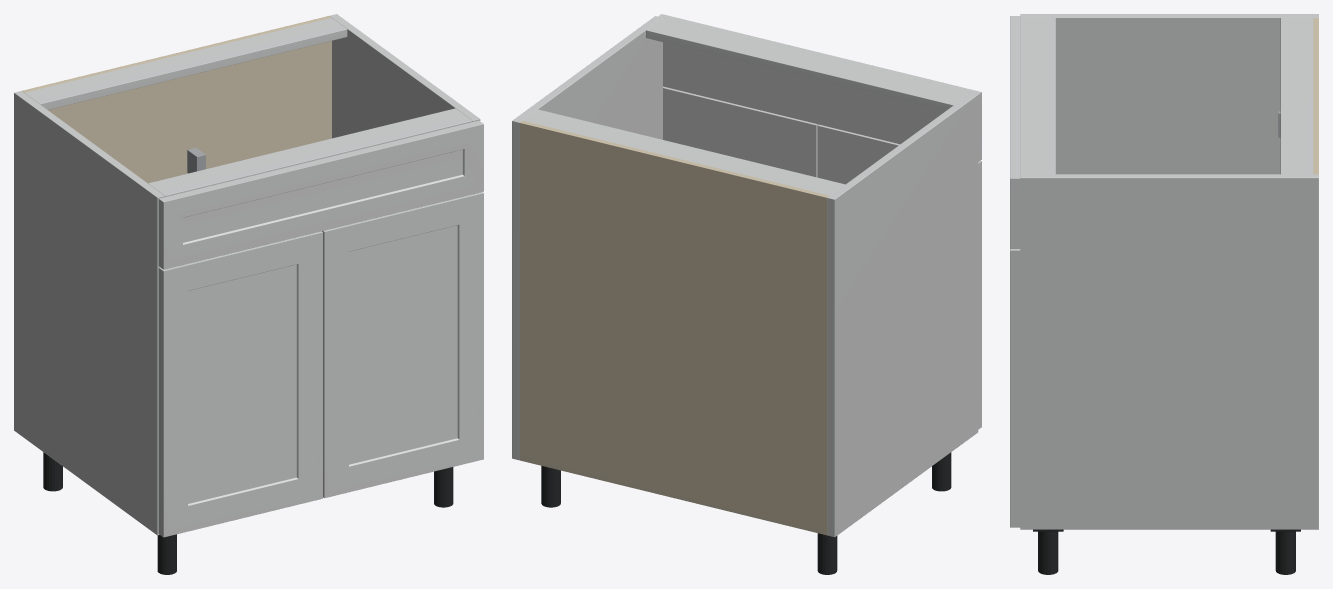
File: PLY-WSS-SB30.glb
The picture shows the model from 3 angles, left to right: view 1: azimuth 30°, elevation 25°; view 2: azimuth 150°, elevation 25°; view 3: azimuth 270°, elevation 25°; orthographic projection. The views are drawn at different scales.
Parts seen in each view (by area): view 1: Carcass left, Shaker door, Shaker door.001, False drawer front, Carcass back, Carcass right, Top support rail, Top support rail.001, Adjustable foot.001, Adjustable foot.003, Adjustable foot; view 2: Carcass back, Carcass left, False drawer front, Carcass right, Shaker door.001, Top support rail.001, Top support rail, Shaker door, Carcass bottom, Adjustable foot, Adjustable foot.002, Adjustable foot.001; view 3: Carcass right, Carcass left, Top support rail.001, Top support rail, Shaker door.001, False drawer front, Carcass back, Adjustable foot.003, Adjustable foot.002.
Boxes of the visible parts, left/top/right/bottom form: Carcass left: left=14, top=91, right=164, bottom=535; Shaker door: left=158, top=231, right=322, bottom=537; Shaker door.001: left=322, top=192, right=483, bottom=498; False drawer front: left=158, top=120, right=483, bottom=269; Carcass back: left=22, top=16, right=331, bottom=183; Carcass right: left=329, top=14, right=480, bottom=138; Top support rail: left=24, top=17, right=347, bottom=109; Top support rail.001: left=148, top=108, right=472, bottom=196; Adjustable foot.001: left=157, top=534, right=176, bottom=574; Adjustable foot.003: left=434, top=467, right=453, bottom=507; Adjustable foot: left=43, top=452, right=62, bottom=491; Carcass back: left=519, top=120, right=829, bottom=535; Carcass left: left=827, top=93, right=978, bottom=537; False drawer front: left=658, top=14, right=981, bottom=161; Carcass right: left=512, top=16, right=662, bottom=460; Shaker door.001: left=663, top=86, right=818, bottom=177; Top support rail.001: left=646, top=18, right=969, bottom=110; Top support rail: left=523, top=109, right=844, bottom=195; Shaker door: left=817, top=124, right=981, bottom=429; Carcass bottom: left=520, top=453, right=826, bottom=534; Adjustable foot: left=817, top=533, right=837, bottom=574; Adjustable foot.002: left=541, top=466, right=560, bottom=507; Adjustable foot.001: left=932, top=452, right=951, bottom=491; Carcass right: left=1020, top=174, right=1318, bottom=529; Carcass left: left=1020, top=14, right=1318, bottom=174; Top support rail.001: left=1020, top=18, right=1055, bottom=174; Top support rail: left=1280, top=18, right=1313, bottom=174; Shaker door.001: left=1010, top=249, right=1020, bottom=527; False drawer front: left=1010, top=16, right=1020, bottom=248; Carcass back: left=1313, top=18, right=1318, bottom=174; Adjustable foot.003: left=1038, top=531, right=1058, bottom=574; Adjustable foot.002: left=1275, top=531, right=1295, bottom=574.
Size of the model in its own units: 0.762 by 0.8763 by 0.6064.
